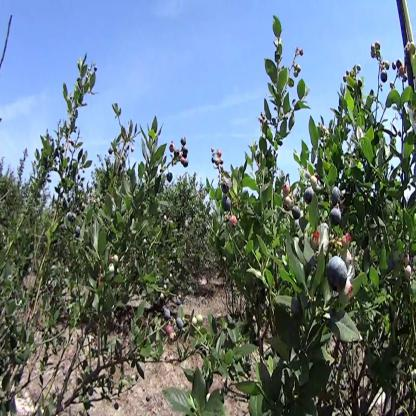intermediate: (282, 179, 293, 214)
mature: (325, 257, 349, 299), (331, 186, 344, 230), (221, 179, 232, 215), (304, 187, 314, 207), (293, 205, 304, 222)
